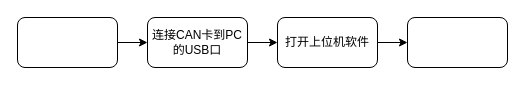
The diagram is 525 pixels wide and 85 high, and some of its shapes have lost their labels. The centre of each missing label's shape, as x and y in pixels:
"加载配置文件" goes at (457,42).
"开始" goes at (67,42).
